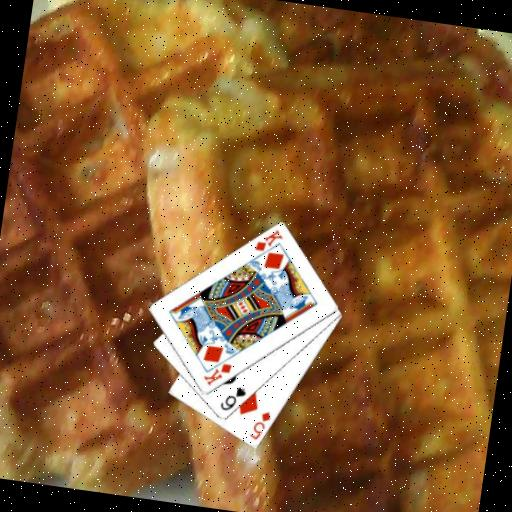5D: (246, 407, 273, 443)
6S: (217, 382, 249, 416)
KD: (199, 358, 234, 391), (252, 224, 286, 256)
